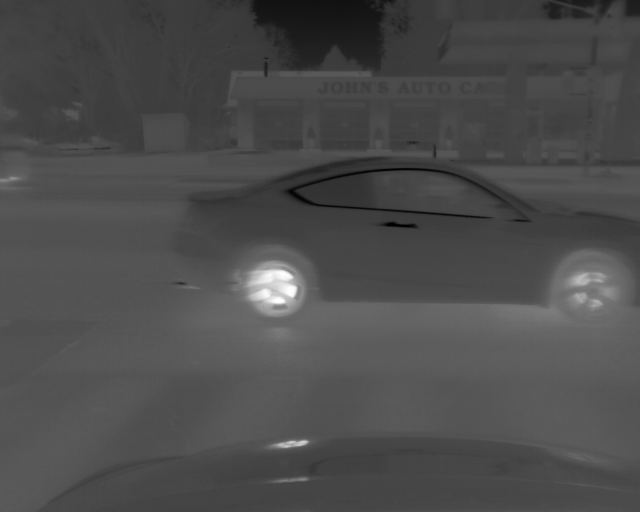car: (176, 153, 640, 329)
